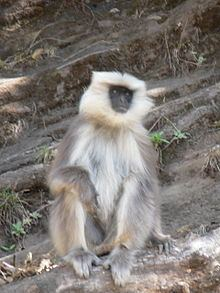monkey: (42, 66, 183, 288)
